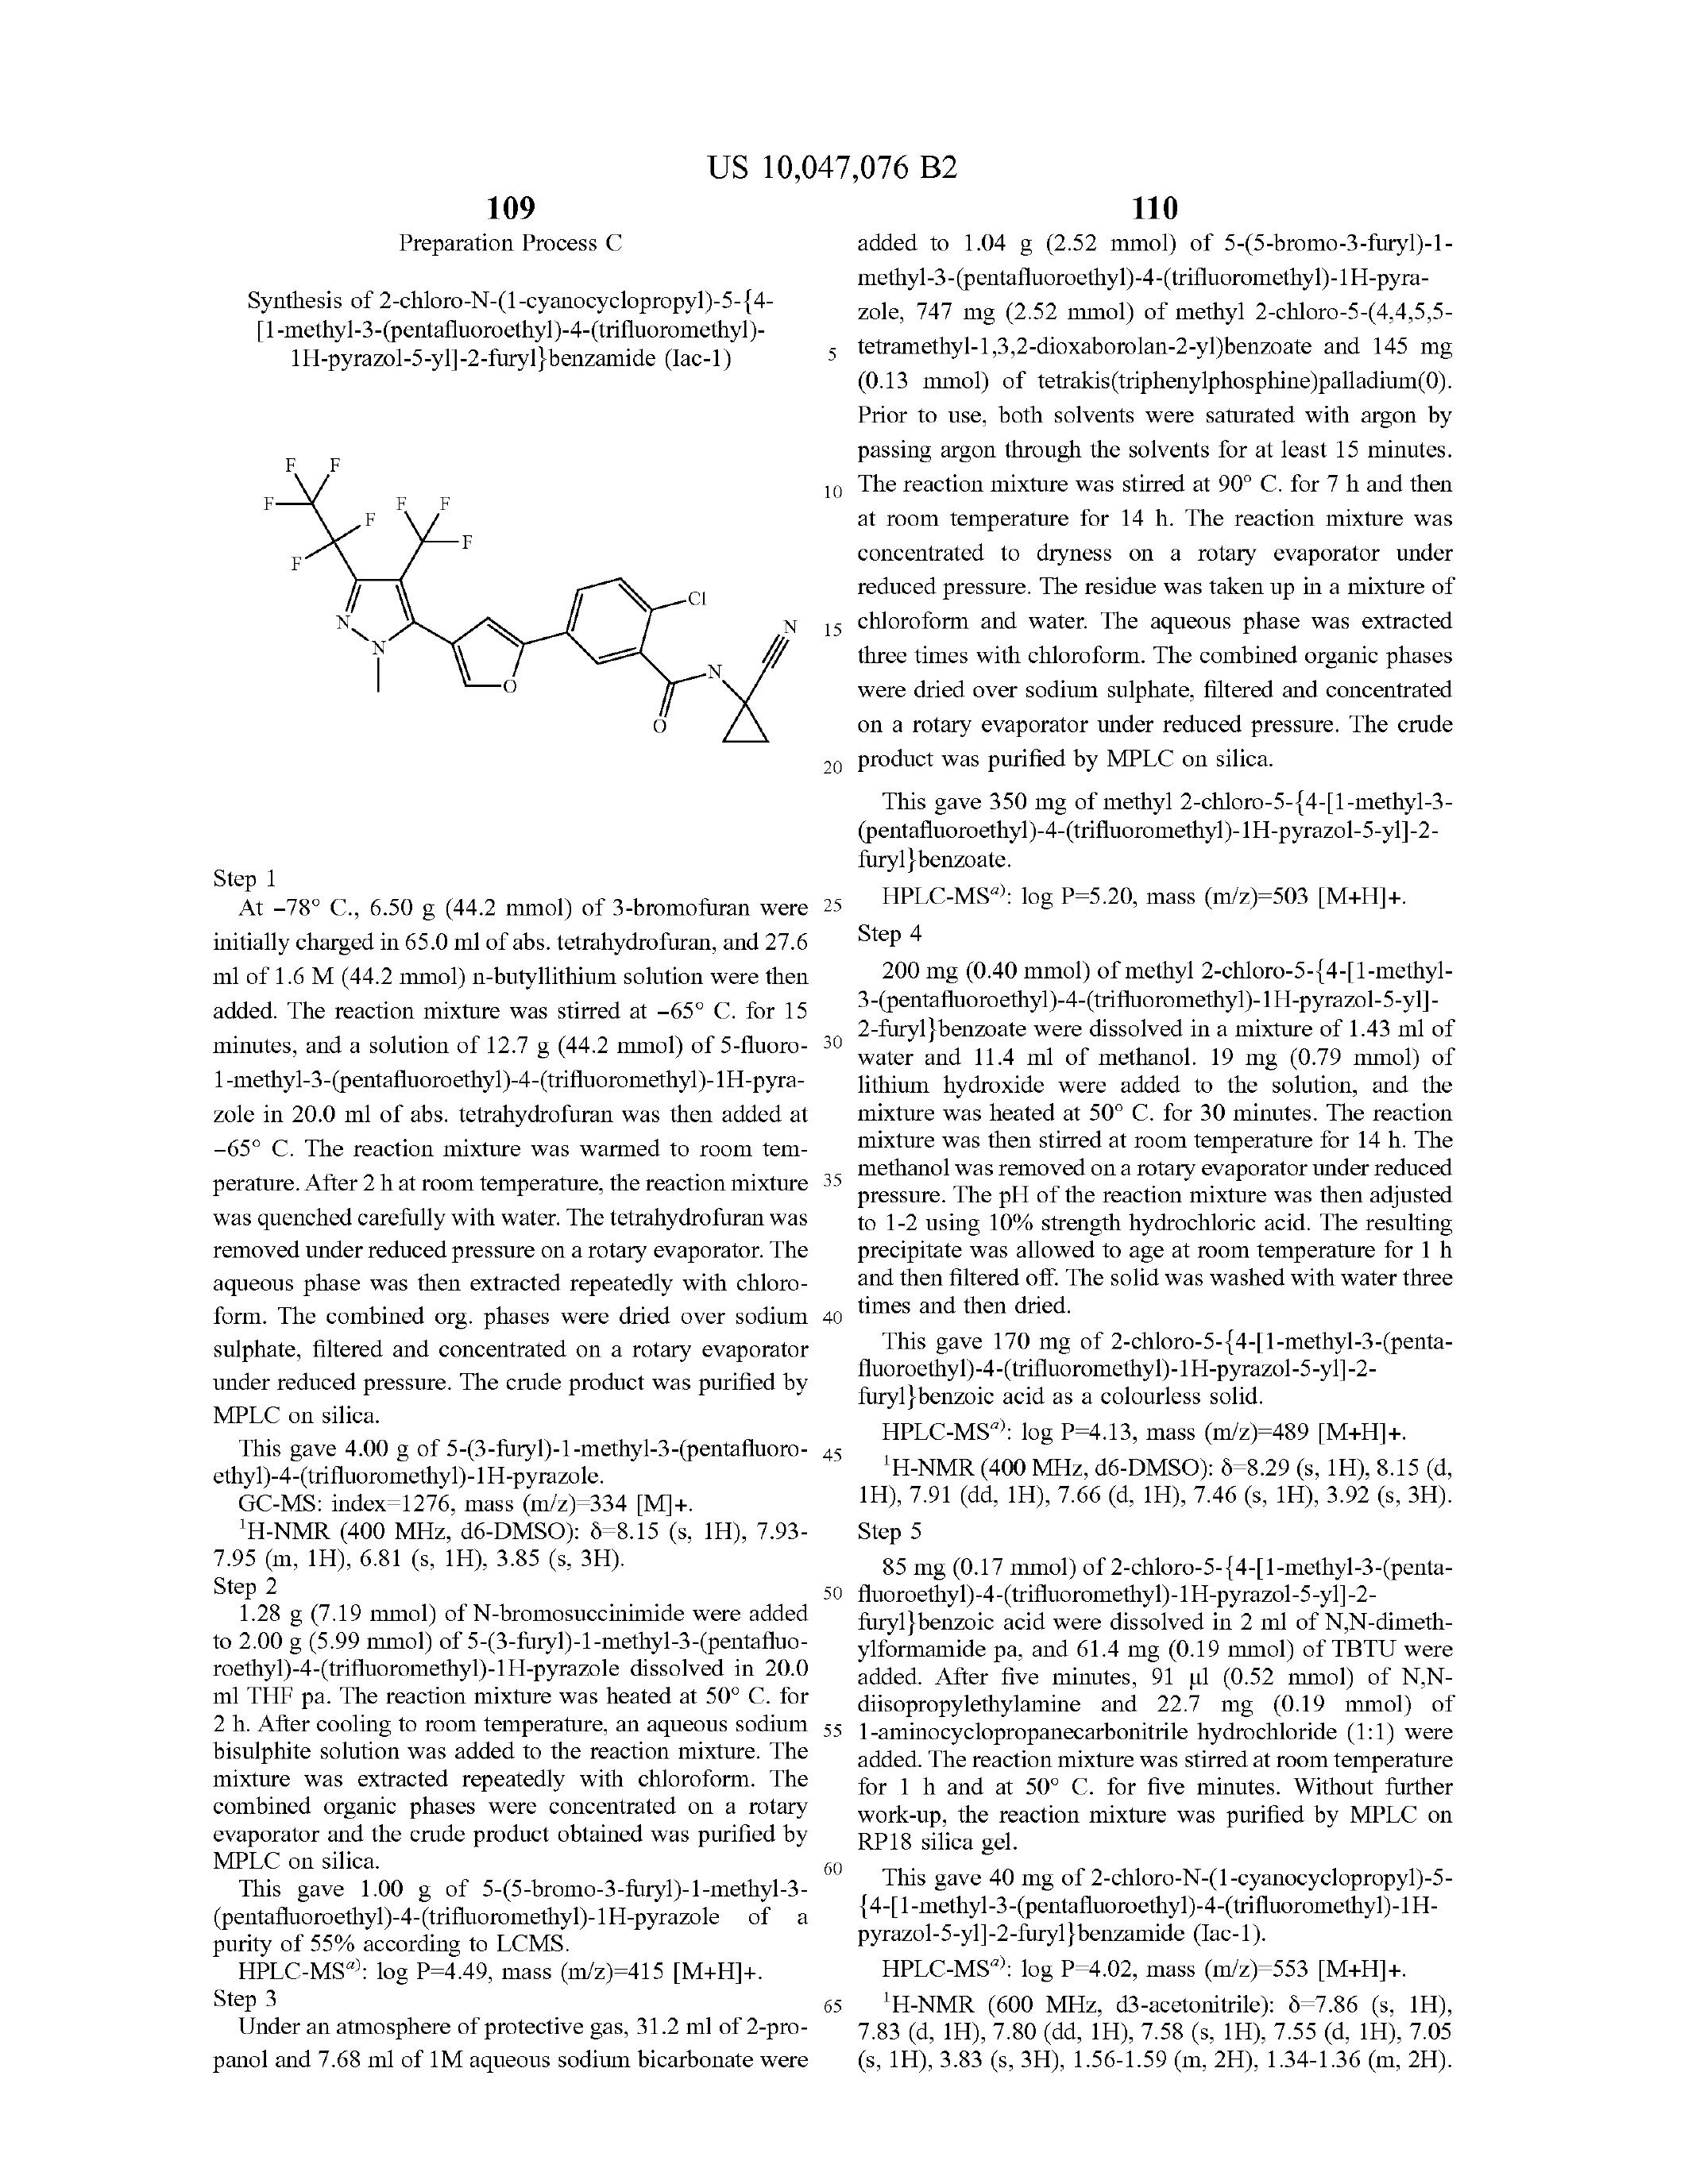relevant-structures: (202, 402, 821, 840)
